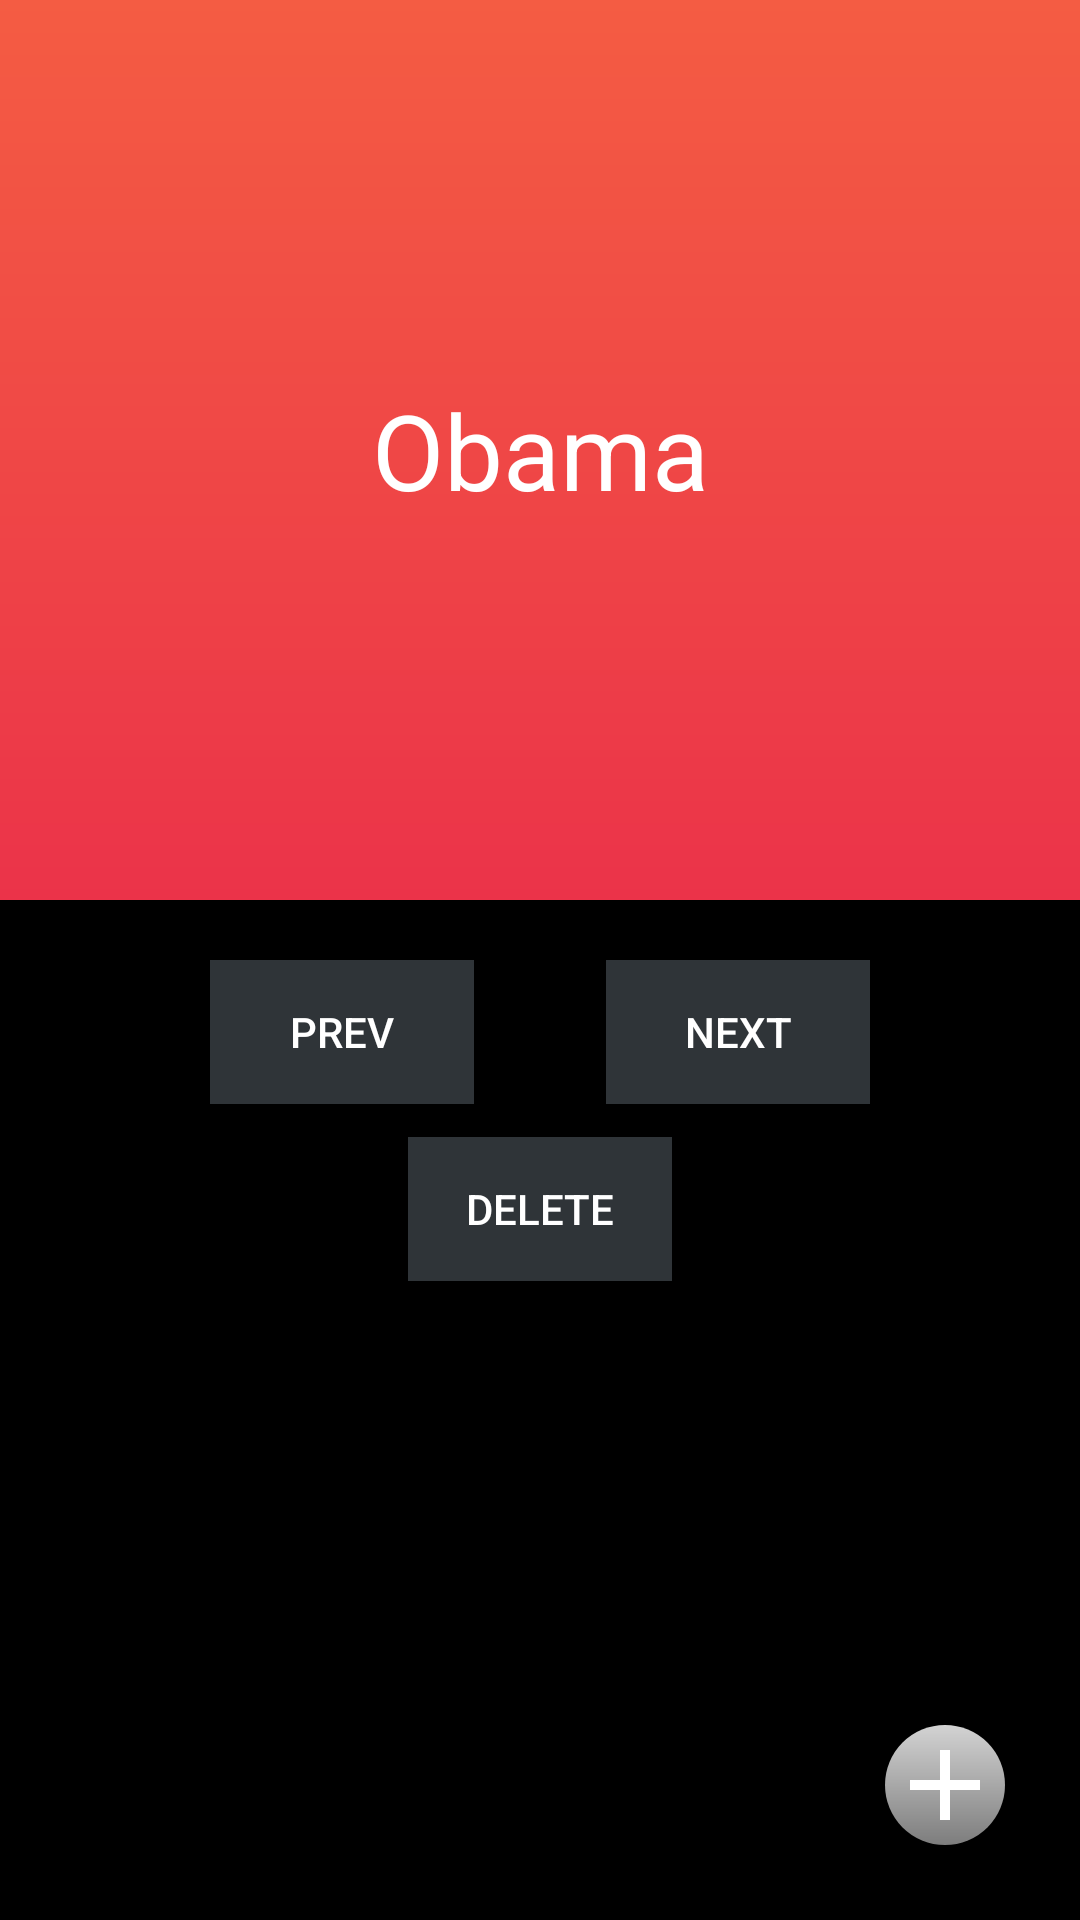

Named icons in this screenshot (1080x1920) and their centers, [x,y]:
plus: [945,1785]
